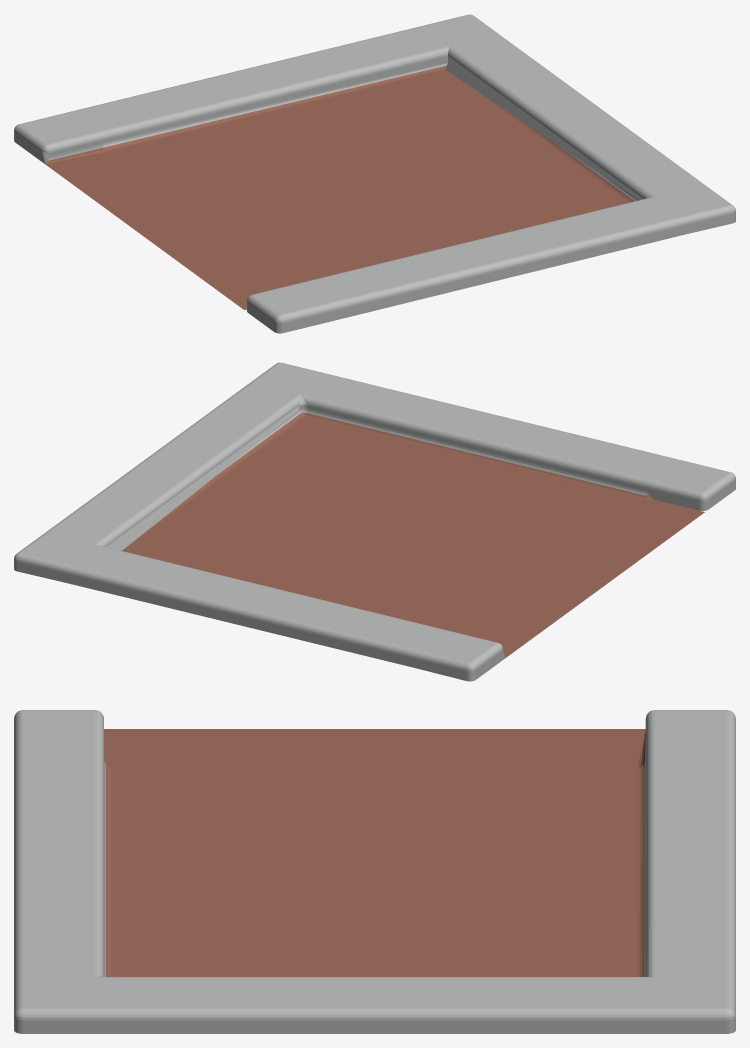
The model's file is End_Road.fbx.
The picture shows the model from 3 angles, top to bottom: view 1: azimuth 30°, elevation 25°; view 2: azimuth 150°, elevation 25°; view 3: azimuth 270°, elevation 25°; orthographic projection. The views are drawn at different scales.
Parts seen in each view (by area): view 1: Plan.017; view 2: Plan.017; view 3: Plan.017.
Boxes of the visible parts, x1=… form: Plan.017: x1=14, y1=14, x2=735, y2=333; Plan.017: x1=14, y1=362, x2=735, y2=681; Plan.017: x1=14, y1=710, x2=735, y2=1033.
Bounding box in the file's own units: 800 × 26.78 × 800.
